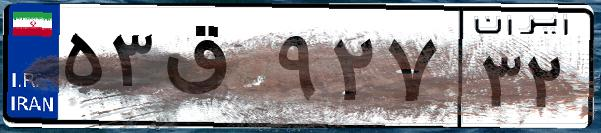2: (330, 28, 385, 110), (525, 38, 570, 115)
3: (475, 38, 525, 113), (110, 28, 158, 98)
5: (57, 26, 110, 100)
7: (385, 28, 445, 110)
9: (270, 28, 330, 110)
ق: (158, 20, 270, 120)
